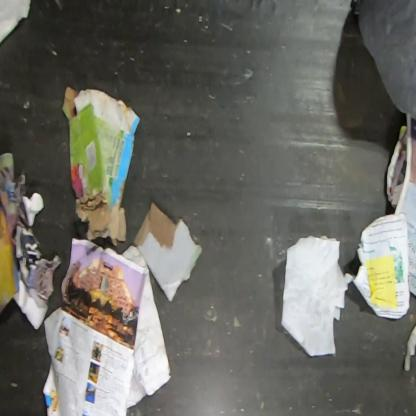cardboard: (61, 86, 141, 248), (132, 200, 203, 303)
soft_plastic: (349, 0, 415, 122)
